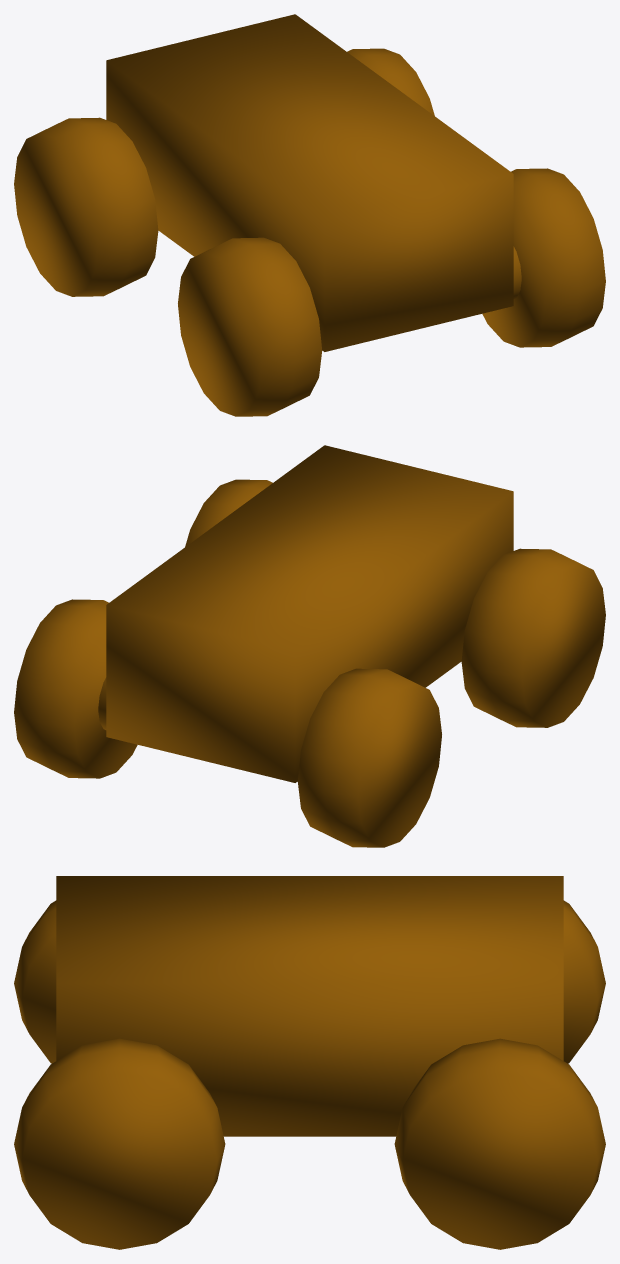
The model's file is Car.obj.
3 views of the same model, one above another, from view 1: azimuth 30°, elevation 25°; view 2: azimuth 150°, elevation 25°; view 3: azimuth 270°, elevation 25° (orthographic). The views are drawn at different scales.
Visible parts, largest first — view 1: Cube47; view 2: Cube47; view 3: Cube47.
Part boxes in pixels (x1,y1,x2,y2): Cube47: (14, 14, 605, 416); Cube47: (14, 445, 605, 847); Cube47: (14, 876, 605, 1249).
Size of the model in its own units: 0.5304 by 0.2916 by 0.6804.
